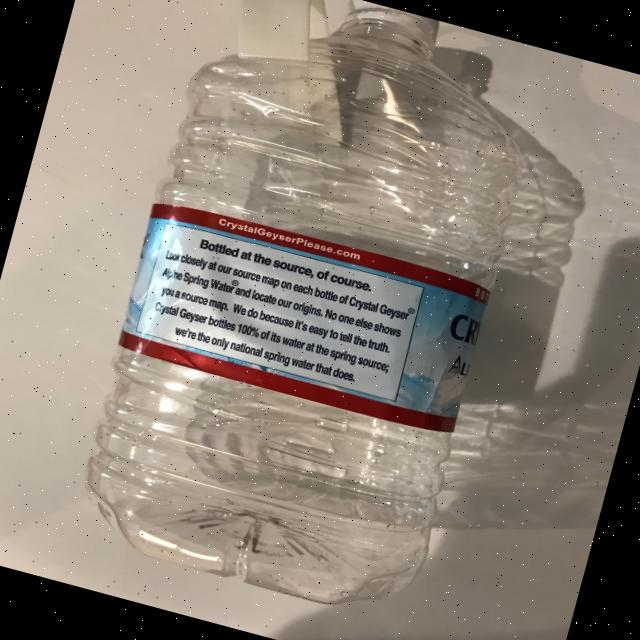plastic: (62, 0, 561, 627)
